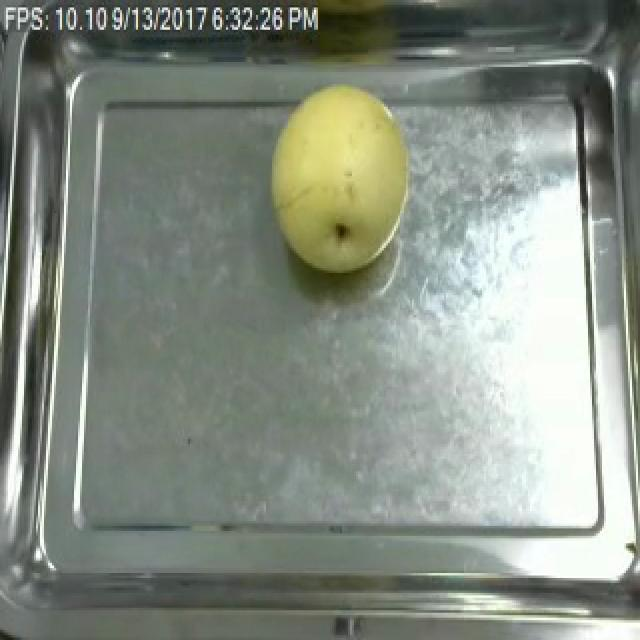Fruit: (260, 74, 418, 280)
